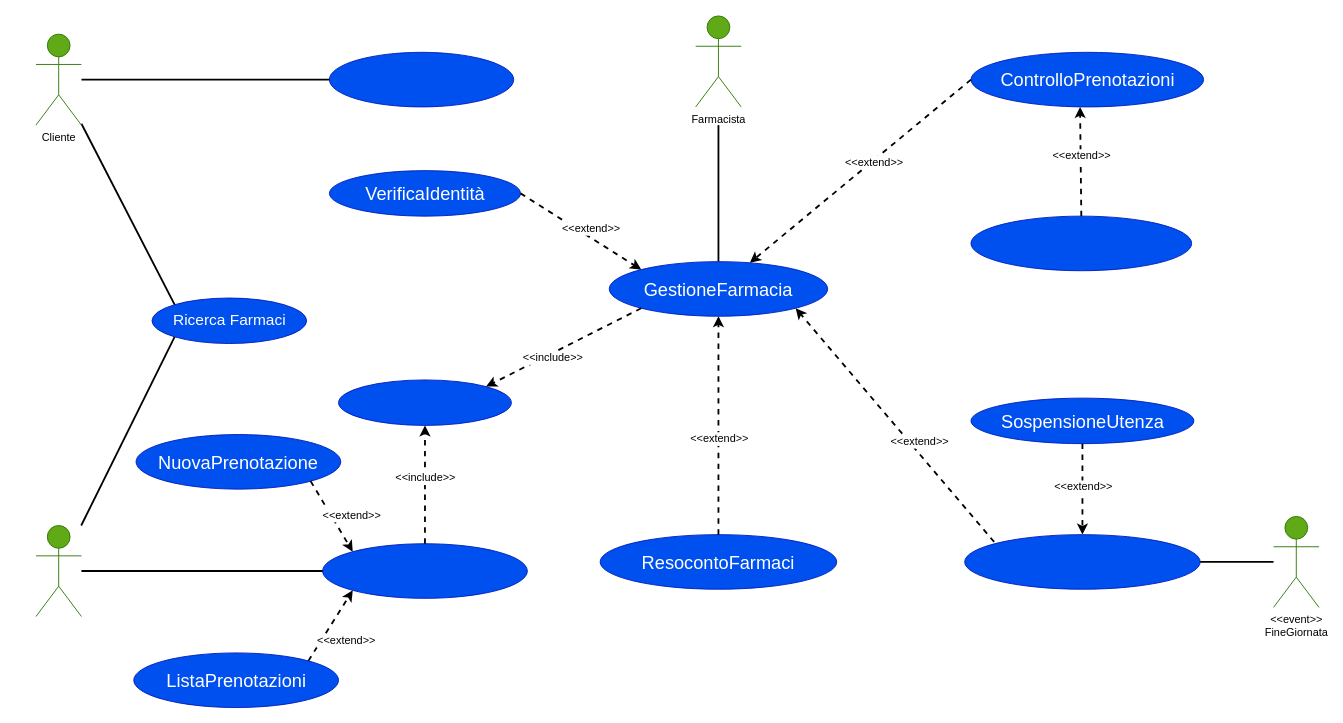
Some shapes in this 1343 by 723 pixel diagram are drawn without their labels. Each missing label, with the centre of its shape:
"Cliente Registrato" belongs at [58,571].
"ConfermaPrenotazione" belongs at [1081,243].
"GestionePrenotazinoni" belongs at [424,570].
"Login" belongs at [424,402].
"Registrazione" belongs at [421,79].
"ResocontoUtenti" belongs at [1082,561].
